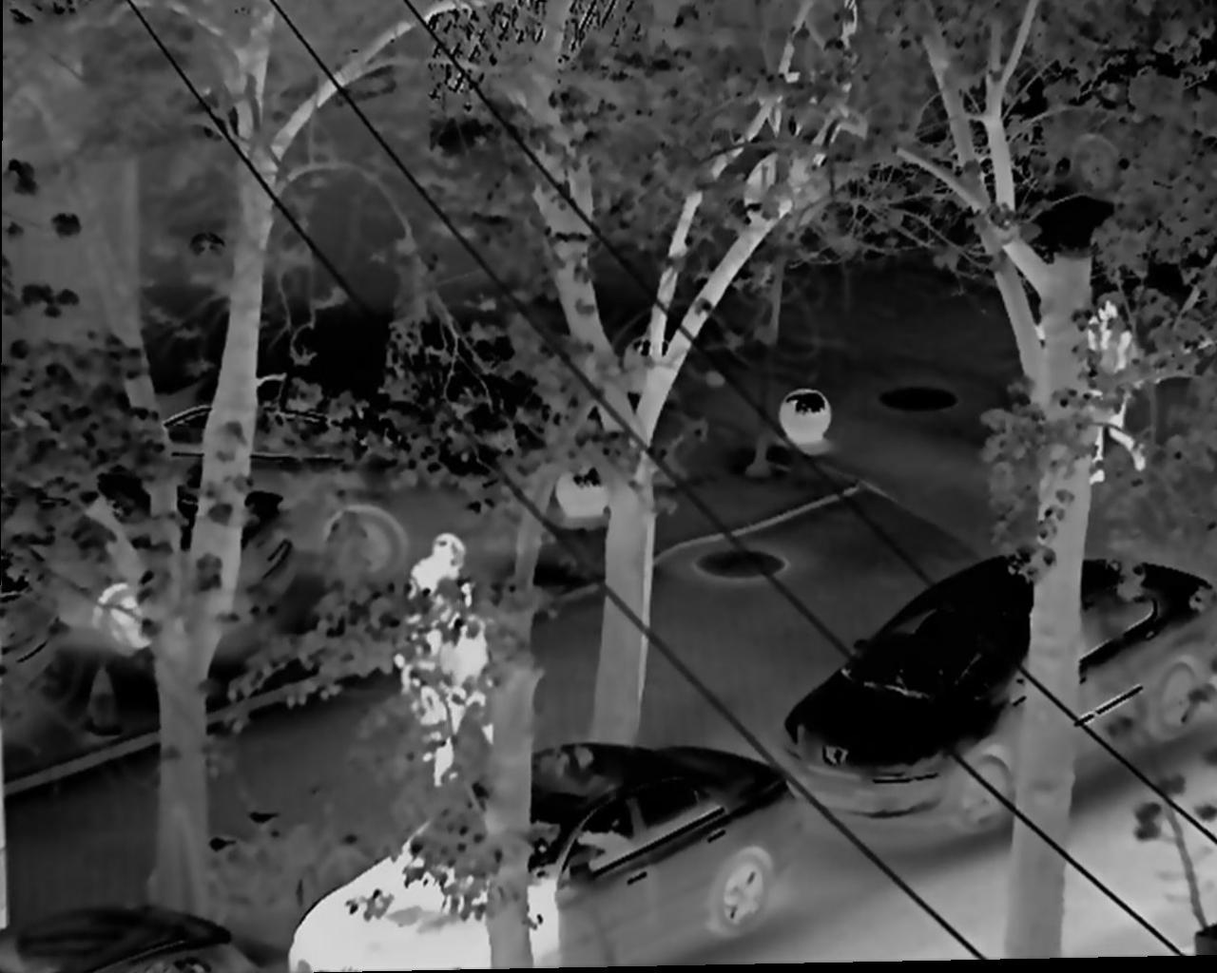person: (395, 523, 474, 737), (433, 585, 506, 787), (1084, 304, 1146, 474)
